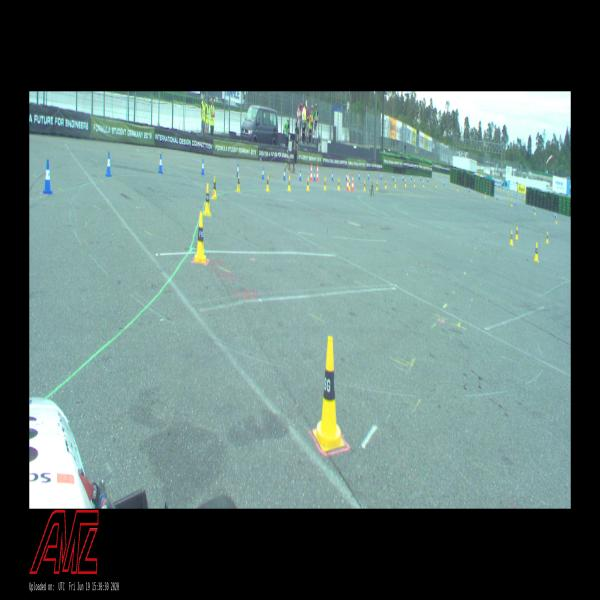blue_cone: (43, 159, 52, 194), (106, 152, 112, 177), (158, 154, 163, 173), (200, 159, 205, 175), (236, 163, 239, 177), (283, 169, 286, 180), (262, 168, 264, 179), (299, 170, 301, 181), (331, 172, 333, 180), (392, 174, 394, 181), (358, 172, 360, 179), (380, 173, 382, 179), (468, 186, 470, 192), (554, 212, 556, 218), (533, 204, 535, 210), (514, 199, 516, 205), (427, 177, 429, 182), (402, 175, 404, 180), (496, 194, 498, 199), (314, 171, 315, 181), (346, 173, 347, 180), (368, 173, 369, 179), (411, 175, 412, 179), (420, 176, 421, 180), (444, 180, 444, 185)
large_orange_cone: (351, 174, 354, 191), (346, 173, 349, 190), (316, 164, 318, 182), (310, 164, 312, 181)
yellow_cone: (313, 337, 345, 450), (194, 212, 206, 263), (203, 183, 211, 215), (212, 175, 217, 198), (534, 242, 539, 262), (236, 174, 241, 192), (510, 230, 514, 245), (266, 175, 269, 191), (546, 232, 549, 243), (323, 179, 326, 190), (288, 176, 290, 191), (307, 177, 309, 190), (516, 226, 518, 238), (375, 181, 378, 189), (338, 178, 340, 189), (364, 182, 366, 190), (435, 181, 437, 187), (534, 208, 536, 214), (484, 193, 486, 198), (349, 180, 350, 190), (385, 180, 386, 188), (556, 216, 557, 224), (395, 180, 396, 187), (405, 180, 406, 187), (423, 181, 424, 187), (414, 181, 415, 187), (511, 201, 512, 206), (457, 186, 458, 191)
